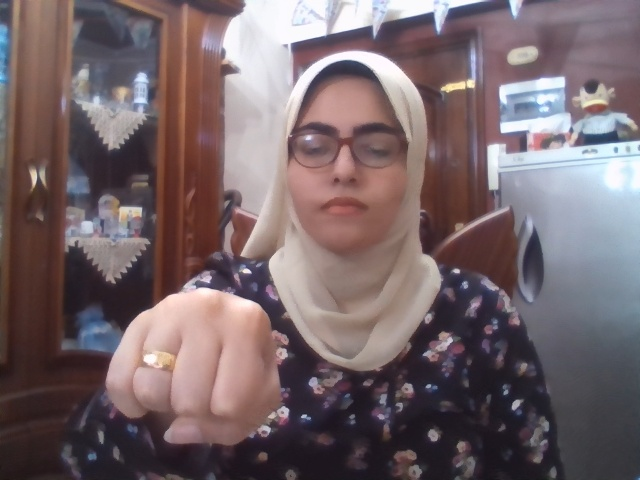yes: (106, 288, 282, 446)
